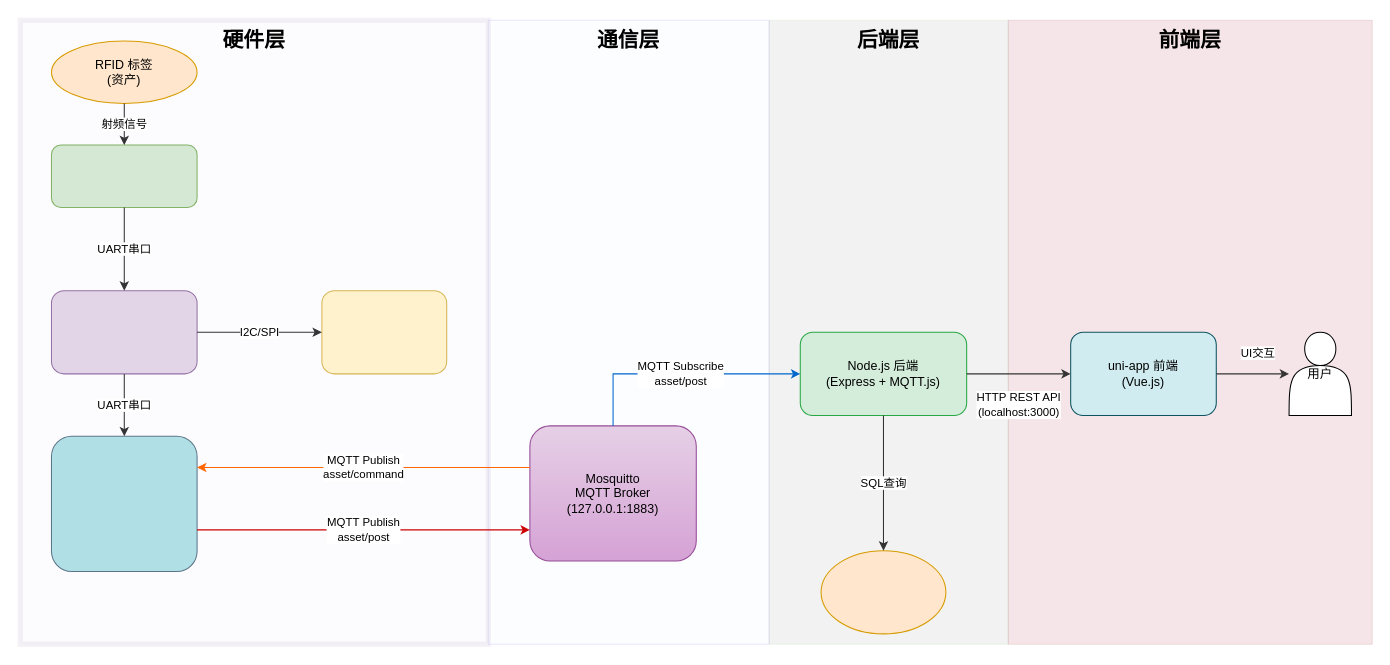
Image size: 1390x665. Some labels were removed from this diagram. The centre of each missing label's shape, as x and y in pixels:
"ESP8266 WiFi模块" belongs at (123,503).
"MySQL 数据库 (asset表)" belongs at (883,592).
"OLED 显示屏" belongs at (384,332).
"RFID 读写器" belongs at (123,175).
"STM32F103 微控制器" belongs at (123,332).
